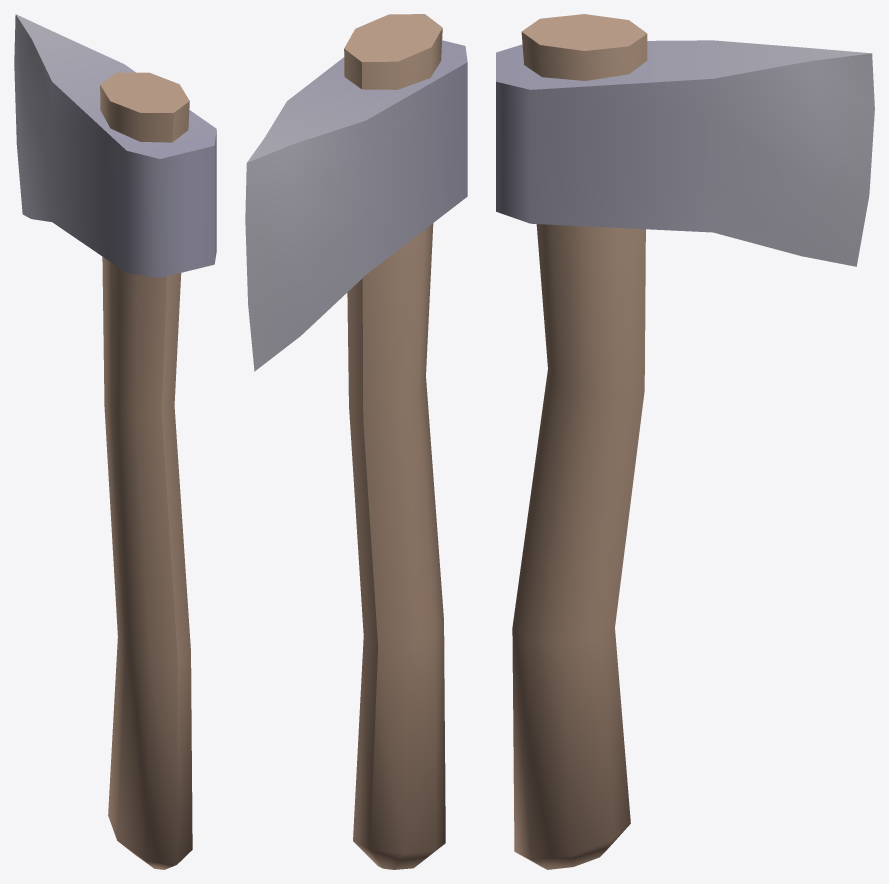
The model's file is tool-axe.glb.
3 renders of one model, left to right at view 1: azimuth 30°, elevation 25°; view 2: azimuth 150°, elevation 25°; view 3: azimuth 270°, elevation 25°, orthographic. The views are drawn at different scales.
Visible parts, largest first — view 1: tool-axe; view 2: tool-axe; view 3: tool-axe.
Part boxes in pixels (x1,y1,x2,y2): tool-axe: (14, 14, 216, 869); tool-axe: (245, 14, 467, 869); tool-axe: (496, 14, 874, 869).
Size of the model in its own units: 0.0611 by 0.4957 by 0.2037.
